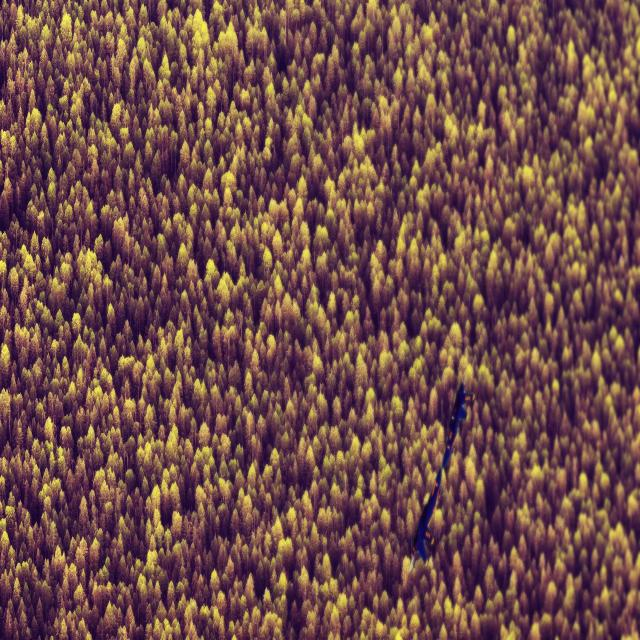airplane: (408, 380, 474, 573)
